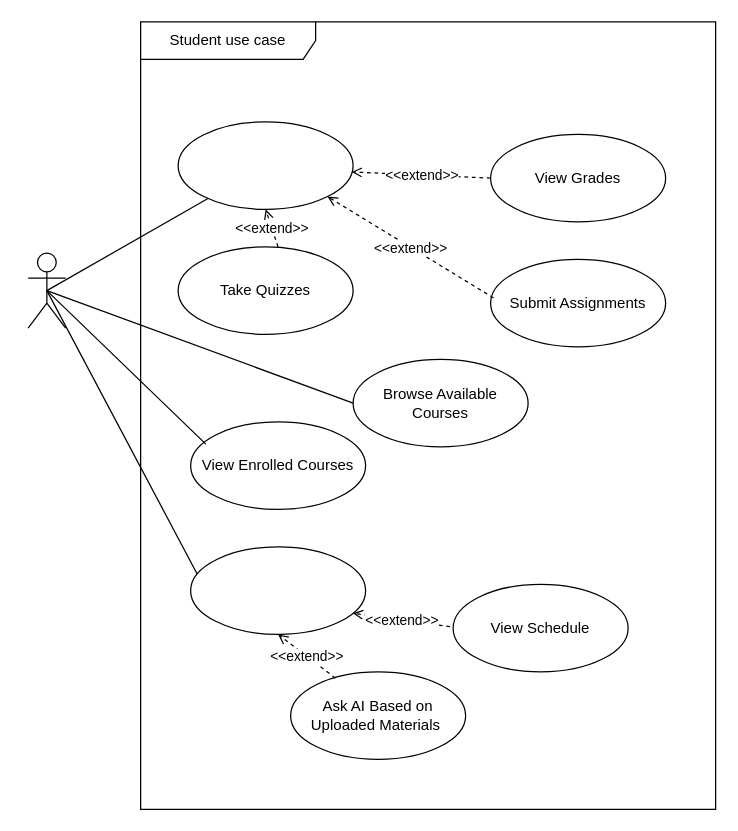
Some shapes in this 738 by 831 pixel diagram are drawn without their labels. Here are the shapes that lost their labels. From the top down, the box of each, then its label:
(177, 121, 353, 209): View Course Materials
(27, 252, 66, 328): Student
(189, 546, 366, 634): Track Learning Progress
